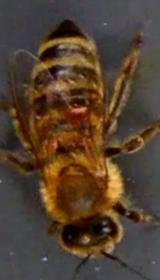varroa_mite: (62, 99, 94, 126)
